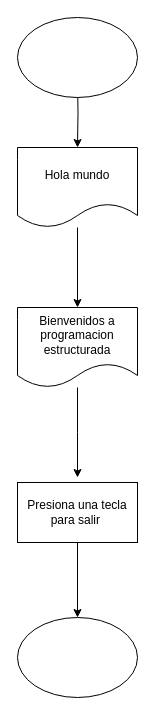
Some shapes in this 155 by 715 pixel diagram are drawn without their labels. Each missing label, with the centre of its shape:
fin: the point at 77,657
inicio: the point at 77,57
